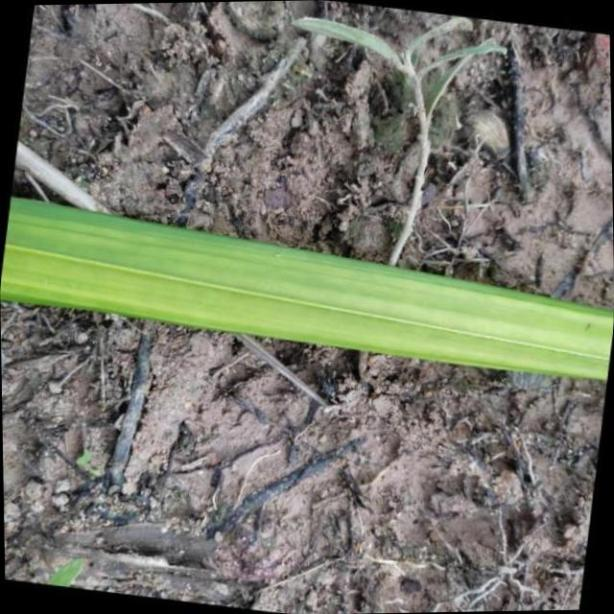nitrogen: (0, 193, 614, 379)
